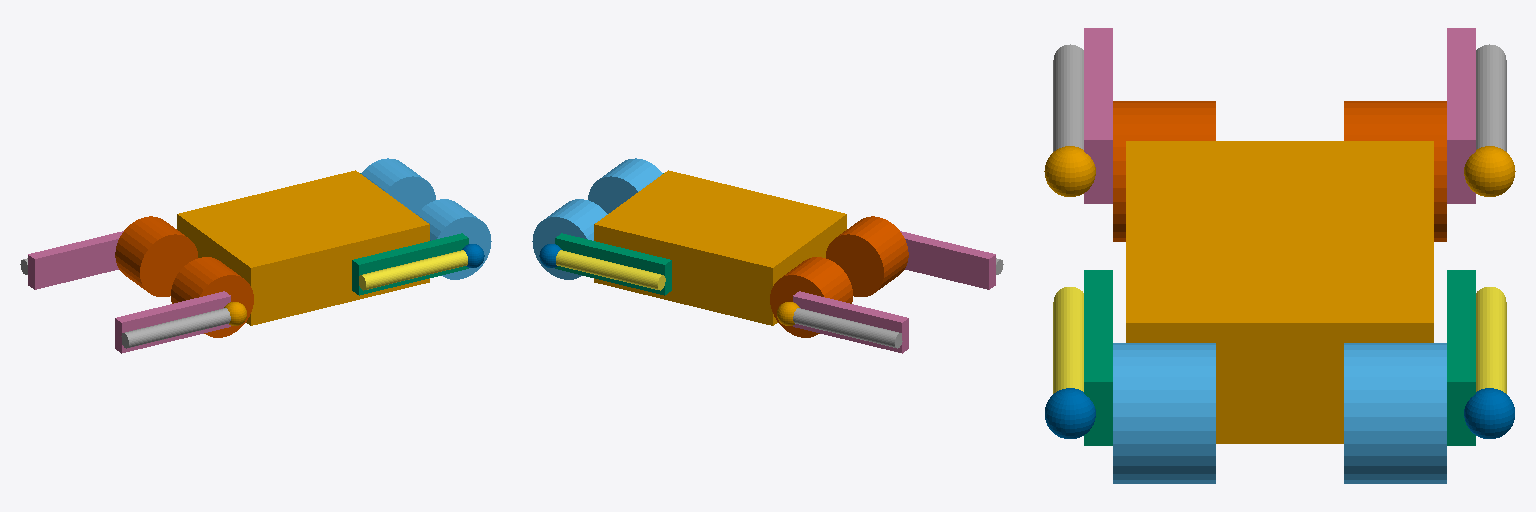
--- Render facts (derived) ---
Views: 3 orthographic renders of the robot side by side, from view 1: azimuth 30°, elevation 25°; view 2: azimuth 150°, elevation 25°; view 3: azimuth 270°, elevation 25°.
Model spirit with 18 links and 17 joints (12 revolute, 5 fixed), rooted at body, posed every joint at zero.
Visible links, largest first — view 1: body, hip1, upper1, hip3, upper2, upper3, hip2, hip0, lower2, lower3; view 2: body, hip3, upper3, hip1, upper0, upper1, hip0, hip2, lower0, lower1; view 3: body, hip0, hip2, hip1, hip3, upper0, upper2, upper1, upper3, lower1, lower3, lower0 (+5 smaller).
Boxes of the visible links, bbox=[...] form: body: bbox=[177, 170, 429, 325]; hip1: bbox=[115, 216, 197, 296]; upper1: bbox=[28, 231, 123, 289]; hip3: bbox=[171, 257, 253, 337]; upper2: bbox=[352, 233, 468, 295]; upper3: bbox=[115, 291, 230, 353]; hip2: bbox=[416, 199, 491, 279]; hip0: bbox=[361, 158, 435, 213]; lower2: bbox=[359, 250, 467, 290]; lower3: bbox=[121, 308, 230, 348]; body: bbox=[594, 170, 846, 325]; hip3: bbox=[826, 216, 908, 296]; upper3: bbox=[900, 231, 995, 289]; hip1: bbox=[770, 257, 852, 337]; upper0: bbox=[555, 233, 671, 295]; upper1: bbox=[793, 291, 908, 353]; hip0: bbox=[532, 199, 607, 279]; hip2: bbox=[588, 158, 662, 213]; lower0: bbox=[556, 250, 665, 290]; lower1: bbox=[793, 308, 902, 348]; body: bbox=[1126, 141, 1433, 443]; hip0: bbox=[1344, 343, 1446, 483]; hip2: bbox=[1113, 343, 1215, 483]; hip1: bbox=[1344, 101, 1446, 241]; hip3: bbox=[1113, 101, 1215, 241]; upper0: bbox=[1447, 270, 1475, 445]; upper2: bbox=[1084, 270, 1112, 445]; upper1: bbox=[1447, 28, 1475, 203]; upper3: bbox=[1084, 28, 1112, 203]; lower1: bbox=[1476, 44, 1506, 151]; lower3: bbox=[1053, 44, 1083, 151]; lower0: bbox=[1476, 287, 1506, 393].
Size in the robot's own frame: 0.706 by 0.366 by 0.11 metres.
Geometry: primitives only (box / cylinder / sphere), no mesh files.

The robot description file, URDF, robot "spirit":
<?xml version="1.0" encoding="utf-8"?>
<robot name="spirit">
  <!-- Body -->
  <link name="body">
    <visual>
      <origin rpy="0 0 0" xyz="0 0 0"/>
      <geometry>
        <box size="0.335 0.24 0.104"/>
      </geometry>
      <material name="darkgray"/>
    </visual>
    <inertial>
      <mass value="5.75"/>
      <!-- Uniform box -->
      <!-- <inertia ixx="1/12*${bodyMass}*(${bodyWidth}*${bodyWidth} + ${bodyHeight}*${bodyHeight})"  ixy="0"  ixz="0" iyy="1/12*${bodyMass}*(${bodyLength}*${bodyLength} + ${bodyHeight}*${bodyHeight})" iyz="0" izz="1/12*${bodyMass}*(${bodyLength}*${bodyLength} + ${bodyWidth}*${bodyWidth})"/> -->
      <inertia ixx="0.05" ixy="0" ixz="0" iyy="0.1" iyz="0" izz="0.1"/>
    </inertial>
    <!-- Just copy geometry for collision -->
    <collision>
      <origin rpy="0 0 0" xyz="0 0 0"/>
      <geometry>
        <box size="0.335 0.24 0.104"/>
        <!-- <uri>model:///meshes/Spirit40_Body_Mesh_transformed.stl</uri> -->
      </geometry>
    </collision>
  </link>
  <gazebo reference="body">
    <material>Gazebo/Black</material>
    <gravity>true</gravity>
  </gazebo>
  <!-- Hip motor -->
  <link name="hip0">
    <visual>
      <origin rpy="1.5707963268 0 0" xyz="0 0.028 0"/>
      <geometry>
        <cylinder length="0.08" radius="0.055"/>
      </geometry>
    </visual>
    <collision>
      <origin rpy="1.5707963268 0 0" xyz="0 0.028 0"/>
      <geometry>
        Radius
					
        <!-- <cylinder length="${podLength}" radius="${podRadius}"/> -->
        <box size="0.11 0.11 0.08"/>
      </geometry>
    </collision>
    <inertial>
      <origin rpy="1.5707963268 0 0" xyz="0 0.028 0"/>
      <mass value="0.575"/>
      <!-- <inertia ixx="1/12*${podMass}*${podLength}*${podLength} + 1/4*${podMass}*${podRadius}*${podRadius}"  ixy="0"  ixz="0" iyy="1/12*${podMass}*${podLength}*${podLength} + 1/4*${podMass}*${podRadius}*${podRadius}" iyz="0" izz="1/2*${podMass}*${podRadius}*$
				{podRadius}" /> -->
      <inertia ixx="0.00066963541" ixy="0" ixz="0" iyy="0.00066963541" iyz="0" izz="0.0008696875"/>
    </inertial>
  </link>
  <gazebo reference="hip0">
    <material>Gazebo/Grey</material>
  </gazebo>
  <!-- Upper leg -->
  <link name="upper0">
    <visual>
      <origin rpy="0 0 0" xyz="-0.103 -0.022 0"/>
      <geometry>
        <box size="0.206 0.022 0.055"/>
      </geometry>
      <material name="silver"/>
    </visual>
    <collision>
      <origin rpy="0 0 0" xyz="-0.103 -0.022 0"/>
      <geometry>
        <box size="0.206 0.022 0.055"/>
      </geometry>
    </collision>
    <inertial>
      <origin rpy="0 0 0" xyz="-0.103 -0.022 0"/>
      <mass value="0.775"/>
      <inertia ixx="5e-05" ixy="0" ixz="0" iyy="0.001" iyz="0" izz="0.001"/>
    </inertial>
  </link>
  <gazebo reference="upper0">
    <material>Gazebo/DarkGrey</material>
  </gazebo>
  <!-- Abduction joint. Joint names are: 8 9 10 11 -->
  <joint name="8" type="revolute">
    <parent link="body"/>
    <child link="hip0"/>
    <axis xyz="1 0 0"/>
    <origin xyz="0.2225 0.062 0"/>
    <!-- <origin xyz="${front * dx} ${left * dy} 0"/> -->
    <!-- <origin xyz="${front *bodyLength/2+front * podRadius} ${left *bodyWidth/2} 0"/> -->
    <limit effort="40" lower="-0.707" upper="0.707" velocity="30"/>
    <dynamics damping="0.0" friction="0.0"/>
  </joint>
  <!-- Transmission elements required for Gazebo -->
  <transmission name="transmission_8">
    <type>transmission_interface/SimpleTransmission</type>
    <joint name="8">
      <hardwareInterface>hardware_interface/EffortJointInterface</hardwareInterface>
    </joint>
    <actuator name="motor_8">
      <hardwareInterface>EffortJointInterface</hardwareInterface>
      <mechanicalReduction>1</mechanicalReduction>
    </actuator>
  </transmission>
  <!-- Hip joint. (Motor to upper leg). Joint names are: 0 2 4 6 -->
  <joint name="0" type="revolute">
    <parent link="hip0"/>
    <child link="upper0"/>
    <axis xyz="0 -1 0"/>
    <origin xyz="0 0.10098 0"/>
    <!--  rpy="0 -0.3 0" -->
    <limit effort="40" lower="-6.28318530718" upper="6.28318530718" velocity="30"/>
    <dynamics damping="0.0" friction="0.0"/>
  </joint>
  <!-- Transmission elements required for Gazebo -->
  <transmission name="transmission_0">
    <type>transmission_interface/SimpleTransmission</type>
    <joint name="0">
      <hardwareInterface>hardware_interface/EffortJointInterface</hardwareInterface>
    </joint>
    <actuator name="motor_0">
      <hardwareInterface>EffortJointInterface</hardwareInterface>
      <mechanicalReduction>1</mechanicalReduction>
    </actuator>
  </transmission>
  <!-- Lower leg -->
  <link name="lower0">
    <visual>
      <origin rpy="0 1.5707963268 0" xyz="0.103 0 0"/>
      <geometry>
        <cylinder length="0.206" radius="0.013"/>
      </geometry>
      <material name="darkgray"/>
    </visual>
    <collision>
      <origin rpy="0 1.5707963268 0" xyz="0.103 0 0"/>
      <geometry>
        <cylinder length="0.206" radius="0.013"/>
      </geometry>
    </collision>
    <inertial>
      <origin rpy="0 1.5707963268 0" xyz="0.103 0 0"/>
      <mass value="0.075"/>
      <inertia ixx="5e-06" ixy="0" ixz="0" iyy="0.0001" iyz="0" izz="0.0001"/>
    </inertial>
  </link>
  <gazebo reference="lower0">
    <material>Gazebo/Grey</material>
  </gazebo>
  <!-- Knee joint. Joint names are: 1 3 5 7 -->
  <joint name="1" type="revolute">
    <parent link="upper0"/>
    <child link="lower0"/>
    <axis xyz="0 1 0"/>
    <origin xyz="-0.206 0 0"/>
    <!--rpy="0 0.5 0"-->
    <limit effort="40" lower="0" upper="3.14159265359" velocity="30"/>
    <dynamics damping="0.0" friction="0.0"/>
  </joint>
  <!-- Transmission elements required for Gazebo -->
  <transmission name="transmission_1">
    <type>transmission_interface/SimpleTransmission</type>
    <joint name="1">
      <hardwareInterface>hardware_interface/EffortJointInterface</hardwareInterface>
    </joint>
    <actuator name="motor_1">
      <hardwareInterface>EffortJointInterface</hardwareInterface>
      <mechanicalReduction>1</mechanicalReduction>
    </actuator>
  </transmission>
  <!-- Toe -->
  <link name="toe0">
    <contact>
      <friction_anchor/>
      <stiffness value="30000.0"/>
      <damping value="1000.0"/>
      <spinning_friction value="0.3"/>
      <lateral_friction value="50.0"/>
    </contact>
    <visual>
      <origin rpy="0 0 0" xyz="0 0 0"/>
      <geometry>
        <sphere radius="0.02"/>
      </geometry>
      <material name="darkgray"/>
    </visual>
    <collision>
      <origin rpy="0 0 0" xyz="0 0 0"/>
      <geometry>
        <sphere radius="0.02"/>
      </geometry>
    </collision>
    <inertial>
      <mass value="0.015"/>
      <inertia ixx="0.000025" ixy="0" ixz="0" iyy="0.000025" iyz="0" izz="0.000025"/>
      <!-- <inertia ixx="2/5*${toeMass}*${toeRadius}*${toeRadius}"  ixy="0"  ixz="0" iyy="2/5*${toeMass}*${toeRadius}*${toeRadius}" iyz="0" izz="2/5*${toeMass}*${toeRadius}*${toeRadius}" /> -->
    </inertial>
  </link>
  <gazebo reference="toe0">
    <material>Gazebo/Black</material>
    <collision>
      <surface>
        <bounce>
          <restitution_coefficient>0</restitution_coefficient>
          <threshold>1e+06</threshold>
        </bounce>
        <friction>
          <torsional>
            <coefficient>0.3</coefficient>
          </torsional>
          <ode>
            <mu>100.0</mu>
            <mu2>50.0</mu2>
          </ode>
          <bullet>
            <rolling_friction>0.3</rolling_friction>
            <friction2>50.0</friction2>
          </bullet>
        </friction>
        <contact>
          <bullet>
            <kp>30000.0</kp>
            <kd>1000.0</kd>
          </bullet>
          <ode>
            <kp>30000.0</kp>
            <kd>1000.0</kd>
          </ode>
        </contact>
      </surface>
    </collision>
    <sensor name="toe0_contact" type="contact">
      <plugin filename="libgazebo_ros_bumper.so" name="toe0_plugin">
        <alwaysOn>1</alwaysOn>
        <updateRate>1000</updateRate>
        <bumperTopicName>gazebo/toe0_contact_state</bumperTopicName>
        <frameName>world</frameName>
        <robotNamespace>/</robotNamespace>
      </plugin>
      <contact>
        <collision>toe0_collision</collision>
        <topic>__default_topic__</topic>
      </contact>
      <update_rate>1000</update_rate>
    </sensor>
  </gazebo>
  <!-- Hip motor -->
  <link name="hip1">
    <visual>
      <origin rpy="1.5707963268 0 0" xyz="0 0.028 0"/>
      <geometry>
        <cylinder length="0.08" radius="0.055"/>
      </geometry>
    </visual>
    <collision>
      <origin rpy="1.5707963268 0 0" xyz="0 0.028 0"/>
      <geometry>
        Radius
					
        <!-- <cylinder length="${podLength}" radius="${podRadius}"/> -->
        <box size="0.11 0.11 0.08"/>
      </geometry>
    </collision>
    <inertial>
      <origin rpy="1.5707963268 0 0" xyz="0 0.028 0"/>
      <mass value="0.575"/>
      <!-- <inertia ixx="1/12*${podMass}*${podLength}*${podLength} + 1/4*${podMass}*${podRadius}*${podRadius}"  ixy="0"  ixz="0" iyy="1/12*${podMass}*${podLength}*${podLength} + 1/4*${podMass}*${podRadius}*${podRadius}" iyz="0" izz="1/2*${podMass}*${podRadius}*$
				{podRadius}" /> -->
      <inertia ixx="0.00066963541" ixy="0" ixz="0" iyy="0.00066963541" iyz="0" izz="0.0008696875"/>
    </inertial>
  </link>
  <gazebo reference="hip1">
    <material>Gazebo/Grey</material>
  </gazebo>
  <!-- Upper leg -->
  <link name="upper1">
    <visual>
      <origin rpy="0 0 0" xyz="-0.103 -0.022 0"/>
      <geometry>
        <box size="0.206 0.022 0.055"/>
      </geometry>
      <material name="silver"/>
    </visual>
    <collision>
      <origin rpy="0 0 0" xyz="-0.103 -0.022 0"/>
      <geometry>
        <box size="0.206 0.022 0.055"/>
      </geometry>
    </collision>
    <inertial>
      <origin rpy="0 0 0" xyz="-0.103 -0.022 0"/>
      <mass value="0.775"/>
      <inertia ixx="5e-05" ixy="0" ixz="0" iyy="0.001" iyz="0" izz="0.001"/>
    </inertial>
  </link>
  <gazebo reference="upper1">
    <material>Gazebo/DarkGrey</material>
  </gazebo>
  <!-- Abduction joint. Joint names are: 8 9 10 11 -->
  <joint name="9" type="revolute">
    <parent link="body"/>
    <child link="hip1"/>
    <axis xyz="1 0 0"/>
    <origin xyz="-0.2225 0.062 0"/>
    <!-- <origin xyz="${front * dx} ${left * dy} 0"/> -->
    <!-- <origin xyz="${front *bodyLength/2+front * podRadius} ${left *bodyWidth/2} 0"/> -->
    <limit effort="40" lower="-0.707" upper="0.707" velocity="30"/>
    <dynamics damping="0.0" friction="0.0"/>
  </joint>
  <!-- Transmission elements required for Gazebo -->
  <transmission name="transmission_9">
    <type>transmission_interface/SimpleTransmission</type>
    <joint name="9">
      <hardwareInterface>hardware_interface/EffortJointInterface</hardwareInterface>
    </joint>
    <actuator name="motor_9">
      <hardwareInterface>EffortJointInterface</hardwareInterface>
      <mechanicalReduction>1</mechanicalReduction>
    </actuator>
  </transmission>
  <!-- Hip joint. (Motor to upper leg). Joint names are: 0 2 4 6 -->
  <joint name="2" type="revolute">
    <parent link="hip1"/>
    <child link="upper1"/>
    <axis xyz="0 -1 0"/>
    <origin xyz="0 0.10098 0"/>
    <!--  rpy="0 -0.3 0" -->
    <limit effort="40" lower="-6.28318530718" upper="6.28318530718" velocity="30"/>
    <dynamics damping="0.0" friction="0.0"/>
  </joint>
  <!-- Transmission elements required for Gazebo -->
  <transmission name="transmission_2">
    <type>transmission_interface/SimpleTransmission</type>
    <joint name="2">
      <hardwareInterface>hardware_interface/EffortJointInterface</hardwareInterface>
    </joint>
    <actuator name="motor_2">
      <hardwareInterface>EffortJointInterface</hardwareInterface>
      <mechanicalReduction>1</mechanicalReduction>
    </actuator>
  </transmission>
  <!-- Lower leg -->
  <link name="lower1">
    <visual>
      <origin rpy="0 1.5707963268 0" xyz="0.103 0 0"/>
      <geometry>
        <cylinder length="0.206" radius="0.013"/>
      </geometry>
      <material name="darkgray"/>
    </visual>
    <collision>
      <origin rpy="0 1.5707963268 0" xyz="0.103 0 0"/>
      <geometry>
        <cylinder length="0.206" radius="0.013"/>
      </geometry>
    </collision>
    <inertial>
      <origin rpy="0 1.5707963268 0" xyz="0.103 0 0"/>
      <mass value="0.075"/>
      <inertia ixx="5e-06" ixy="0" ixz="0" iyy="0.0001" iyz="0" izz="0.0001"/>
    </inertial>
  </link>
  <gazebo reference="lower1">
    <material>Gazebo/Grey</material>
  </gazebo>
  <!-- Knee joint. Joint names are: 1 3 5 7 -->
  <joint name="3" type="revolute">
    <parent link="upper1"/>
    <child link="lower1"/>
    <axis xyz="0 1 0"/>
    <origin xyz="-0.206 0 0"/>
    <!--rpy="0 0.5 0"-->
    <limit effort="40" lower="0" upper="3.14159265359" velocity="30"/>
    <dynamics damping="0.0" friction="0.0"/>
  </joint>
  <!-- Transmission elements required for Gazebo -->
  <transmission name="transmission_3">
    <type>transmission_interface/SimpleTransmission</type>
    <joint name="3">
      <hardwareInterface>hardware_interface/EffortJointInterface</hardwareInterface>
    </joint>
    <actuator name="motor_3">
      <hardwareInterface>EffortJointInterface</hardwareInterface>
      <mechanicalReduction>1</mechanicalReduction>
    </actuator>
  </transmission>
  <!-- Toe -->
  <link name="toe1">
    <contact>
      <friction_anchor/>
      <stiffness value="30000.0"/>
      <damping value="1000.0"/>
      <spinning_friction value="0.3"/>
      <lateral_friction value="50.0"/>
    </contact>
    <visual>
      <origin rpy="0 0 0" xyz="0 0 0"/>
      <geometry>
        <sphere radius="0.02"/>
      </geometry>
      <material name="darkgray"/>
    </visual>
    <collision>
      <origin rpy="0 0 0" xyz="0 0 0"/>
      <geometry>
        <sphere radius="0.02"/>
      </geometry>
    </collision>
    <inertial>
      <mass value="0.015"/>
      <inertia ixx="0.000025" ixy="0" ixz="0" iyy="0.000025" iyz="0" izz="0.000025"/>
      <!-- <inertia ixx="2/5*${toeMass}*${toeRadius}*${toeRadius}"  ixy="0"  ixz="0" iyy="2/5*${toeMass}*${toeRadius}*${toeRadius}" iyz="0" izz="2/5*${toeMass}*${toeRadius}*${toeRadius}" /> -->
    </inertial>
  </link>
  <gazebo reference="toe1">
    <material>Gazebo/Black</material>
    <collision>
      <surface>
        <bounce>
          <restitution_coefficient>0</restitution_coefficient>
          <threshold>1e+06</threshold>
        </bounce>
        <friction>
          <torsional>
            <coefficient>0.3</coefficient>
          </torsional>
          <ode>
            <mu>100.0</mu>
            <mu2>50.0</mu2>
          </ode>
          <bullet>
            <rolling_friction>0.3</rolling_friction>
            <friction2>50.0</friction2>
          </bullet>
        </friction>
        <contact>
          <bullet>
            <kp>30000.0</kp>
            <kd>1000.0</kd>
          </bullet>
          <ode>
            <kp>30000.0</kp>
            <kd>1000.0</kd>
          </ode>
        </contact>
      </surface>
    </collision>
    <sensor name="toe1_contact" type="contact">
      <plugin filename="libgazebo_ros_bumper.so" name="toe1_plugin">
        <alwaysOn>1</alwaysOn>
        <updateRate>1000</updateRate>
        <bumperTopicName>gazebo/toe1_contact_state</bumperTopicName>
        <frameName>world</frameName>
        <robotNamespace>/</robotNamespace>
      </plugin>
      <contact>
        <collision>toe1_collision</collision>
        <topic>__default_topic__</topic>
      </contact>
      <update_rate>1000</update_rate>
    </sensor>
  </gazebo>
  <!-- Hip motor -->
  <link name="hip2">
    <visual>
      <origin rpy="1.5707963268 0 0" xyz="0 -0.028 0"/>
      <geometry>
        <cylinder length="0.08" radius="0.055"/>
      </geometry>
    </visual>
    <collision>
      <origin rpy="1.5707963268 0 0" xyz="0 -0.028 0"/>
      <geometry>
        Radius
					
        <!-- <cylinder length="${podLength}" radius="${podRadius}"/> -->
        <box size="0.11 0.11 0.08"/>
      </geometry>
    </collision>
    <inertial>
      <origin rpy="1.5707963268 0 0" xyz="0 -0.028 0"/>
      <mass value="0.575"/>
      <!-- <inertia ixx="1/12*${podMass}*${podLength}*${podLength} + 1/4*${podMass}*${podRadius}*${podRadius}"  ixy="0"  ixz="0" iyy="1/12*${podMass}*${podLength}*${podLength} + 1/4*${podMass}*${podRadius}*${podRadius}" iyz="0" izz="1/2*${podMass}*${podRadius}*$
				{podRadius}" /> -->
      <inertia ixx="0.00066963541" ixy="0" ixz="0" iyy="0.00066963541" iyz="0" izz="0.0008696875"/>
    </inertial>
  </link>
  <gazebo reference="hip2">
    <material>Gazebo/Grey</material>
  </gazebo>
  <!-- Upper leg -->
  <link name="upper2">
    <visual>
      <origin rpy="0 0 0" xyz="-0.103 0.022 0"/>
      <geometry>
        <box size="0.206 0.022 0.055"/>
      </geometry>
      <material name="silver"/>
    </visual>
    <collision>
      <origin rpy="0 0 0" xyz="-0.103 0.022 0"/>
      <geometry>
        <box size="0.206 0.022 0.055"/>
      </geometry>
    </collision>
    <inertial>
      <origin rpy="0 0 0" xyz="-0.103 0.022 0"/>
      <mass value="0.775"/>
      <inertia ixx="5e-05" ixy="0" ixz="0" iyy="0.001" iyz="0" izz="0.001"/>
    </inertial>
  </link>
  <gazebo reference="upper2">
    <material>Gazebo/DarkGrey</material>
  </gazebo>
  <!-- Abduction joint. Joint names are: 8 9 10 11 -->
  <joint name="10" type="revolute">
    <parent link="body"/>
    <child link="hip2"/>
    <axis xyz="1 0 0"/>
    <origin xyz="0.2225 -0.062 0"/>
    <!-- <origin xyz="${front * dx} ${left * dy} 0"/> -->
    <!-- <origin xyz="${front *bodyLength/2+front * podRadius} ${left *bodyWidth/2} 0"/> -->
    <limit effort="40" lower="-0.707" upper="0.707" velocity="30"/>
    <dynamics damping="0.0" friction="0.0"/>
  </joint>
  <!-- Transmission elements required for Gazebo -->
  <transmission name="transmission_10">
    <type>transmission_interface/SimpleTransmission</type>
    <joint name="10">
      <hardwareInterface>hardware_interface/EffortJointInterface</hardwareInterface>
    </joint>
    <actuator name="motor_10">
      <hardwareInterface>EffortJointInterface</hardwareInterface>
      <mechanicalReduction>1</mechanicalReduction>
    </actuator>
  </transmission>
  <!-- Hip joint. (Motor to upper leg). Joint names are: 0 2 4 6 -->
  <joint name="4" type="revolute">
    <parent link="hip2"/>
    <child link="upper2"/>
    <axis xyz="0 -1 0"/>
    <origin xyz="0 -0.10098 0"/>
    <!--  rpy="0 -0.3 0" -->
    <limit effort="40" lower="-6.28318530718" upper="6.28318530718" velocity="30"/>
    <dynamics damping="0.0" friction="0.0"/>
  </joint>
  <!-- Transmission elements required for Gazebo -->
  <transmission name="transmission_4">
    <type>transmission_interface/SimpleTransmission</type>
    <joint name="4">
      <hardwareInterface>hardware_interface/EffortJointInterface</hardwareInterface>
    </joint>
    <actuator name="motor_4">
      <hardwareInterface>EffortJointInterface</hardwareInterface>
      <mechanicalReduction>1</mechanicalReduction>
    </actuator>
  </transmission>
  <!-- Lower leg -->
  <link name="lower2">
    <visual>
      <origin rpy="0 1.5707963268 0" xyz="0.103 0 0"/>
      <geometry>
        <cylinder length="0.206" radius="0.013"/>
      </geometry>
      <material name="darkgray"/>
    </visual>
    <collision>
      <origin rpy="0 1.5707963268 0" xyz="0.103 0 0"/>
      <geometry>
        <cylinder length="0.206" radius="0.013"/>
      </geometry>
    </collision>
    <inertial>
      <origin rpy="0 1.5707963268 0" xyz="0.103 0 0"/>
      <mass value="0.075"/>
      <inertia ixx="5e-06" ixy="0" ixz="0" iyy="0.0001" iyz="0" izz="0.0001"/>
    </inertial>
  </link>
  <gazebo reference="lower2">
    <material>Gazebo/Grey</material>
  </gazebo>
  <!-- Knee joint. Joint names are: 1 3 5 7 -->
  <joint name="5" type="revolute">
    <parent link="upper2"/>
    <child link="lower2"/>
    <axis xyz="0 1 0"/>
    <origin xyz="-0.206 0 0"/>
    <!--rpy="0 0.5 0"-->
    <limit effort="40" lower="0" upper="3.14159265359" velocity="30"/>
    <dynamics damping="0.0" friction="0.0"/>
  </joint>
  <!-- Transmission elements required for Gazebo -->
  <transmission name="transmission_5">
    <type>transmission_interface/SimpleTransmission</type>
    <joint name="5">
      <hardwareInterface>hardware_interface/EffortJointInterface</hardwareInterface>
    </joint>
    <actuator name="motor_5">
      <hardwareInterface>EffortJointInterface</hardwareInterface>
      <mechanicalReduction>1</mechanicalReduction>
    </actuator>
  </transmission>
  <!-- Toe -->
  <link name="toe2">
    <contact>
      <friction_anchor/>
      <stiffness value="30000.0"/>
      <damping value="1000.0"/>
      <spinning_friction value="0.3"/>
      <lateral_friction value="50.0"/>
    </contact>
    <visual>
      <origin rpy="0 0 0" xyz="0 0 0"/>
      <geometry>
        <sphere radius="0.02"/>
      </geometry>
      <material name="darkgray"/>
    </visual>
    <collision>
      <origin rpy="0 0 0" xyz="0 0 0"/>
      <geometry>
        <sphere radius="0.02"/>
      </geometry>
    </collision>
    <inertial>
      <mass value="0.015"/>
      <inertia ixx="0.000025" ixy="0" ixz="0" iyy="0.000025" iyz="0" izz="0.000025"/>
      <!-- <inertia ixx="2/5*${toeMass}*${toeRadius}*${toeRadius}"  ixy="0"  ixz="0" iyy="2/5*${toeMass}*${toeRadius}*${toeRadius}" iyz="0" izz="2/5*${toeMass}*${toeRadius}*${toeRadius}" /> -->
    </inertial>
  </link>
  <gazebo reference="toe2">
    <material>Gazebo/Black</material>
    <collision>
      <surface>
        <bounce>
          <restitution_coefficient>0</restitution_coefficient>
          <threshold>1e+06</threshold>
        </bounce>
        <friction>
          <torsional>
            <coefficient>0.3</coefficient>
          </torsional>
          <ode>
            <mu>100.0</mu>
            <mu2>50.0</mu2>
          </ode>
          <bullet>
            <rolling_friction>0.3</rolling_friction>
            <friction2>50.0</friction2>
          </bullet>
        </friction>
        <contact>
          <bullet>
            <kp>30000.0</kp>
            <kd>1000.0</kd>
          </bullet>
          <ode>
            <kp>30000.0</kp>
            <kd>1000.0</kd>
          </ode>
        </contact>
      </surface>
    </collision>
    <sensor name="toe2_contact" type="contact">
      <plugin filename="libgazebo_ros_bumper.so" name="toe2_plugin">
        <alwaysOn>1</alwaysOn>
        <updateRate>1000</updateRate>
        <bumperTopicName>gazebo/toe2_contact_state</bumperTopicName>
        <frameName>world</frameName>
        <robotNamespace>/</robotNamespace>
      </plugin>
      <contact>
        <collision>toe2_collision</collision>
        <topic>__default_topic__</topic>
      </contact>
      <update_rate>1000</update_rate>
    </sensor>
  </gazebo>
  <!-- Hip motor -->
  <link name="hip3">
    <visual>
      <origin rpy="1.5707963268 0 0" xyz="0 -0.028 0"/>
      <geometry>
        <cylinder length="0.08" radius="0.055"/>
      </geometry>
    </visual>
    <collision>
      <origin rpy="1.5707963268 0 0" xyz="0 -0.028 0"/>
      <geometry>
        Radius
					
        <!-- <cylinder length="${podLength}" radius="${podRadius}"/> -->
        <box size="0.11 0.11 0.08"/>
      </geometry>
    </collision>
    <inertial>
      <origin rpy="1.5707963268 0 0" xyz="0 -0.028 0"/>
      <mass value="0.575"/>
      <!-- <inertia ixx="1/12*${podMass}*${podLength}*${podLength} + 1/4*${podMass}*${podRadius}*${podRadius}"  ixy="0"  ixz="0" iyy="1/12*${podMass}*${podLength}*${podLength} + 1/4*${podMass}*${podRadius}*${podRadius}" iyz="0" izz="1/2*${podMass}*${podRadius}*$
				{podRadius}" /> -->
      <inertia ixx="0.00066963541" ixy="0" ixz="0" iyy="0.00066963541" iyz="0" izz="0.0008696875"/>
    </inertial>
  </link>
  <gazebo reference="hip3">
    <material>Gazebo/Grey</material>
  </gazebo>
  <!-- Upper leg -->
  <link name="upper3">
    <visual>
      <origin rpy="0 0 0" xyz="-0.103 0.022 0"/>
      <geometry>
        <box size="0.206 0.022 0.055"/>
      </geometry>
      <material name="silver"/>
    </visual>
    <collision>
      <origin rpy="0 0 0" xyz="-0.103 0.022 0"/>
      <geometry>
        <box size="0.206 0.022 0.055"/>
      </geometry>
    </collision>
    <inertial>
      <origin rpy="0 0 0" xyz="-0.103 0.022 0"/>
      <mass value="0.775"/>
      <inertia ixx="5e-05" ixy="0" ixz="0" iyy="0.001" iyz="0" izz="0.001"/>
    </inertial>
  </link>
  <gazebo reference="upper3">
    <material>Gazebo/DarkGrey</material>
  </gazebo>
  <!-- Abduction joint. Joint names are: 8 9 10 11 -->
  <joint name="11" type="revolute">
    <parent link="body"/>
    <child link="hip3"/>
    <axis xyz="1 0 0"/>
    <origin xyz="-0.2225 -0.062 0"/>
    <!-- <origin xyz="${front * dx} ${left * dy} 0"/> -->
    <!-- <origin xyz="${front *bodyLength/2+front * podRadius} ${left *bodyWidth/2} 0"/> -->
    <limit effort="40" lower="-0.707" upper="0.707" velocity="30"/>
    <dynamics damping="0.0" friction="0.0"/>
  </joint>
  <!-- Transmission elements required for Gazebo -->
  <transmission name="transmission_11">
    <type>transmission_interface/SimpleTransmission</type>
    <joint name="11">
      <hardwareInterface>hardware_interface/EffortJointInterface</hardwareInterface>
    </joint>
    <actuator name="motor_11">
      <hardwareInterface>EffortJointInterface</hardwareInterface>
      <mechanicalReduction>1</mechanicalReduction>
    </actuator>
  </transmission>
  <!-- Hip joint. (Motor to upper leg). Joint names are: 0 2 4 6 -->
  <joint name="6" type="revolute">
    <parent link="hip3"/>
    <child link="upper3"/>
    <axis xyz="0 -1 0"/>
    <origin xyz="0 -0.10098 0"/>
    <!--  rpy="0 -0.3 0" -->
    <limit effort="40" lower="-6.28318530718" upper="6.28318530718" velocity="30"/>
    <dynamics damping="0.0" friction="0.0"/>
  </joint>
  <!-- Transmission elements required for Gazebo -->
  <transmission name="transmission_6">
    <type>transmission_interface/SimpleTransmission</type>
    <joint name="6">
      <hardwareInterface>hardware_interface/EffortJointInterface</hardwareInterface>
    </joint>
    <actuator name="motor_6">
      <hardwareInterface>EffortJointInterface</hardwareInterface>
      <mechanicalReduction>1</mechanicalReduction>
    </actuator>
  </transmission>
  <!-- Lower leg -->
  <link name="lower3">
    <visual>
      <origin rpy="0 1.5707963268 0" xyz="0.103 0 0"/>
      <geometry>
        <cylinder length="0.206" radius="0.013"/>
      </geometry>
      <material name="darkgray"/>
    </visual>
    <collision>
      <origin rpy="0 1.5707963268 0" xyz="0.103 0 0"/>
      <geometry>
        <cylinder length="0.206" radius="0.013"/>
      </geometry>
    </collision>
    <inertial>
      <origin rpy="0 1.5707963268 0" xyz="0.103 0 0"/>
      <mass value="0.075"/>
      <inertia ixx="5e-06" ixy="0" ixz="0" iyy="0.0001" iyz="0" izz="0.0001"/>
    </inertial>
  </link>
  <gazebo reference="lower3">
    <material>Gazebo/Grey</material>
  </gazebo>
  <!-- Knee joint. Joint names are: 1 3 5 7 -->
  <joint name="7" type="revolute">
    <parent link="upper3"/>
    <child link="lower3"/>
    <axis xyz="0 1 0"/>
    <origin xyz="-0.206 0 0"/>
    <!--rpy="0 0.5 0"-->
    <limit effort="40" lower="0" upper="3.14159265359" velocity="30"/>
    <dynamics damping="0.0" friction="0.0"/>
  </joint>
  <!-- Transmission elements required for Gazebo -->
  <transmission name="transmission_7">
    <type>transmission_interface/SimpleTransmission</type>
    <joint name="7">
      <hardwareInterface>hardware_interface/EffortJointInterface</hardwareInterface>
    </joint>
    <actuator name="motor_7">
      <hardwareInterface>EffortJointInterface</hardwareInterface>
      <mechanicalReduction>1</mechanicalReduction>
    </actuator>
  </transmission>
  <!-- Toe -->
  <link name="toe3">
    <contact>
      <friction_anchor/>
      <stiffness value="30000.0"/>
      <damping value="1000.0"/>
      <spinning_friction value="0.3"/>
      <lateral_friction value="50.0"/>
    </contact>
    <visual>
      <origin rpy="0 0 0" xyz="0 0 0"/>
      <geometry>
        <sphere radius="0.02"/>
      </geometry>
      <material name="darkgray"/>
    </visual>
    <collision>
      <origin rpy="0 0 0" xyz="0 0 0"/>
      <geometry>
        <sphere radius="0.02"/>
      </geometry>
    </collision>
    <inertial>
      <mass value="0.015"/>
      <inertia ixx="0.000025" ixy="0" ixz="0" iyy="0.000025" iyz="0" izz="0.000025"/>
      <!-- <inertia ixx="2/5*${toeMass}*${toeRadius}*${toeRadius}"  ixy="0"  ixz="0" iyy="2/5*${toeMass}*${toeRadius}*${toeRadius}" iyz="0" izz="2/5*${toeMass}*${toeRadius}*${toeRadius}" /> -->
    </inertial>
  </link>
  <gazebo reference="toe3">
    <material>Gazebo/Black</material>
    <collision>
      <surface>
        <bounce>
          <restitution_coefficient>0</restitution_coefficient>
          <threshold>1e+06</threshold>
        </bounce>
        <friction>
          <torsional>
            <coefficient>0.3</coefficient>
          </torsional>
          <ode>
            <mu>100.0</mu>
            <mu2>50.0</mu2>
          </ode>
          <bullet>
            <rolling_friction>0.3</rolling_friction>
            <friction2>50.0</friction2>
          </bullet>
        </friction>
        <contact>
          <bullet>
            <kp>30000.0</kp>
            <kd>1000.0</kd>
          </bullet>
          <ode>
            <kp>30000.0</kp>
            <kd>1000.0</kd>
          </ode>
        </contact>
      </surface>
    </collision>
    <sensor name="toe3_contact" type="contact">
      <plugin filename="libgazebo_ros_bumper.so" name="toe3_plugin">
        <alwaysOn>1</alwaysOn>
        <updateRate>1000</updateRate>
        <bumperTopicName>gazebo/toe3_contact_state</bumperTopicName>
        <frameName>world</frameName>
        <robotNamespace>/</robotNamespace>
      </plugin>
      <contact>
        <collision>toe3_collision</collision>
        <topic>__default_topic__</topic>
      </contact>
      <update_rate>1000</update_rate>
    </sensor>
  </gazebo>
  <link name="imu::link">
    <visual>
      <origin rpy="0 0 0" xyz="0 0 0"/>
      <geometry>
        <sphere radius="0.02"/>
      </geometry>
      <material name="gray"/>
    </visual>
    <inertial>
      <mass value="0.001"/>
      <inertia ixx="0.0001" ixy="0" ixz="0" iyy="0" iyz="0" izz="0"/>
    </inertial>
  </link>
  <gazebo reference="imu::link">
    <material>Gazebo/Gray</material>
    <sensor name="imu_sensor" type="imu">
      <always_on>1</always_on>
      <update_rate>100</update_rate>
      <visualize>1</visualize>
      <topic>__default_topic__</topic>
      <plugin filename="libgazebo_ros_imu_sensor.so" name="imu_plugin">
        <topicName>/mcu/state/imu</topicName>
        <bodyName>imu::link</bodyName>
        <robotNamespace>/</robotNamespace>
        <updateRateHZ>500.0</updateRateHZ>
        <gaussianNoise>0.0</gaussianNoise>
        <xyzOffset>0 0 0</xyzOffset>
        <rpyOffset>0 0 0</rpyOffset>
        <frameName>imu::link</frameName>
        <initialOrientationAsReference>0</initialOrientationAsReference>
      </plugin>
      <pose frame="">0 0 0 0 -0 0</pose>
      <imu/>
    </sensor>
  </gazebo>
  <joint name="jtoe0" type="fixed">
    <parent link="lower0"/>
    <child link="toe0"/>
    <origin xyz="0.206 0 -0.0"/>
    <dynamics damping="0.0" friction="0.0"/>
  </joint>
  <gazebo reference="jtoe0">
    <disableFixedJointLumping>1</disableFixedJointLumping>
    <preserveFixedJoint>1</preserveFixedJoint>
  </gazebo>
  <joint name="jtoe1" type="fixed">
    <parent link="lower1"/>
    <child link="toe1"/>
    <origin xyz="0.206 0 -0.0"/>
    <dynamics damping="0.0" friction="0.0"/>
  </joint>
  <gazebo reference="jtoe1">
    <disableFixedJointLumping>1</disableFixedJointLumping>
    <preserveFixedJoint>1</preserveFixedJoint>
  </gazebo>
  <joint name="jtoe2" type="fixed">
    <parent link="lower2"/>
    <child link="toe2"/>
    <origin xyz="0.206 0 -0.0"/>
    <dynamics damping="0.0" friction="0.0"/>
  </joint>
  <gazebo reference="jtoe2">
    <disableFixedJointLumping>1</disableFixedJointLumping>
    <preserveFixedJoint>1</preserveFixedJoint>
  </gazebo>
  <joint name="jtoe3" type="fixed">
    <parent link="lower3"/>
    <child link="toe3"/>
    <origin xyz="0.206 0 -0.0"/>
    <dynamics damping="0.0" friction="0.0"/>
  </joint>
  <gazebo reference="jtoe3">
    <disableFixedJointLumping>1</disableFixedJointLumping>
    <preserveFixedJoint>1</preserveFixedJoint>
  </gazebo>
  <joint name="imu_joint" type="fixed">
    <parent link="body"/>
    <child link="imu::link"/>
  </joint>
  <gazebo reference="imu_joint">
    <disableFixedJointLumping>1</disableFixedJointLumping>
    <preserveFixedJoint>1</preserveFixedJoint>
  </gazebo>
  <!--    CUSTOMIZED SECTIONS	ABOVE. NOT FROM GHOST ROBOTICS.    -->
  <!-- Add ros_control plugin -->
  <gazebo>
    <plugin filename="libgazebo_ros_control.so" name="gazebo_ros_control">
      <controlPeriod>0.002</controlPeriod>
    </plugin>
    <plugin filename="libground_truth_estimator.so" name="ground_truth_estimator">
      <updateRateHZ>500.0</updateRateHZ>
    </plugin>
  </gazebo>
</robot>
